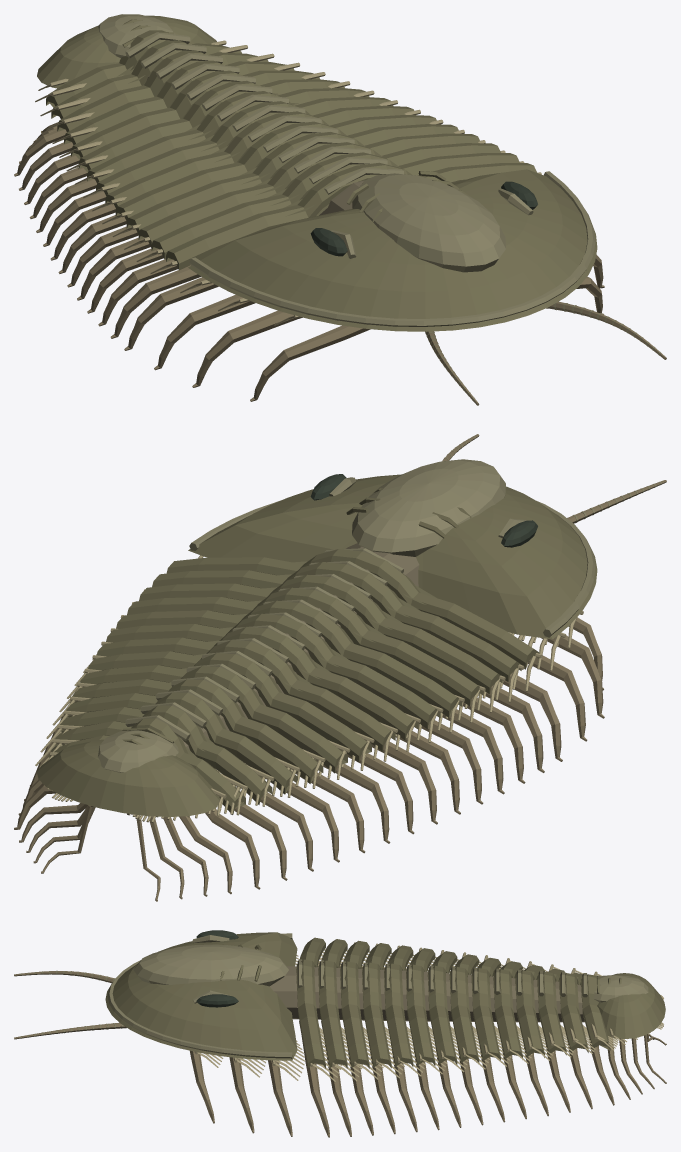
3 renders of one model, top to bottom at view 1: azimuth 30°, elevation 25°; view 2: azimuth 150°, elevation 25°; view 3: azimuth 270°, elevation 25°, orthographic. The views are drawn at different scales.
Parts seen in each view (by area): view 1: Cephalon 14 tergites and pygidium, Glabella axial rings and marginal trim, Paired antennae and jointed walking branches, Upper limb shafts with combs of gill filaments, Paired lateral eyes; view 2: Cephalon 14 tergites and pygidium, Paired antennae and jointed walking branches, Glabella axial rings and marginal trim, Upper limb shafts with combs of gill filaments, Paired lateral eyes, Ventral bases hypostome and limb connections; view 3: Cephalon 14 tergites and pygidium, Paired antennae and jointed walking branches, Glabella axial rings and marginal trim, Upper limb shafts with combs of gill filaments, Ventral bases hypostome and limb connections, Paired lateral eyes.
Part boxes in pixels (box(x1,y1,x2,y2)): Cephalon 14 tergites and pygidium: box(37, 15, 597, 331); Glabella axial rings and marginal trim: box(98, 14, 660, 400); Paired antennae and jointed walking branches: box(14, 122, 666, 405); Upper limb shafts with combs of gill filaments: box(35, 40, 541, 325); Paired lateral eyes: box(310, 181, 537, 256); Cephalon 14 tergites and pygidium: box(37, 474, 597, 816); Paired antennae and jointed walking branches: box(14, 434, 666, 901); Glabella axial rings and marginal trim: box(98, 436, 661, 772); Upper limb shafts with combs of gill filaments: box(35, 555, 583, 822); Paired lateral eyes: box(310, 474, 537, 547); Ventral bases hypostome and limb connections: box(127, 543, 419, 815); Cephalon 14 tergites and pygidium: box(105, 932, 665, 1068); Paired antennae and jointed walking branches: box(14, 962, 666, 1137); Glabella axial rings and marginal trim: box(20, 933, 648, 1058); Upper limb shafts with combs of gill filaments: box(194, 941, 663, 1081); Ventral bases hypostome and limb connections: box(270, 966, 584, 1022); Paired lateral eyes: box(196, 930, 238, 1007).
Size of the model in its own units: 0.0168 by 0.00597 by 0.0315.
